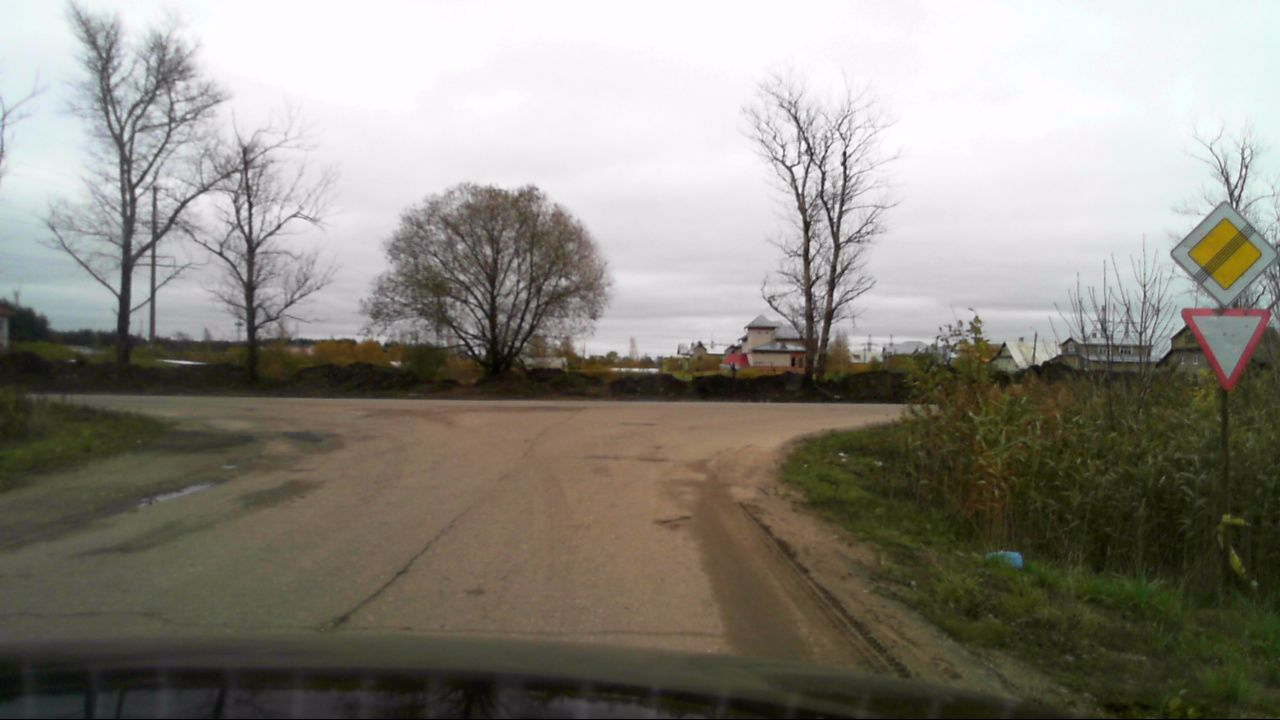main road: (1171, 199, 1279, 305)
